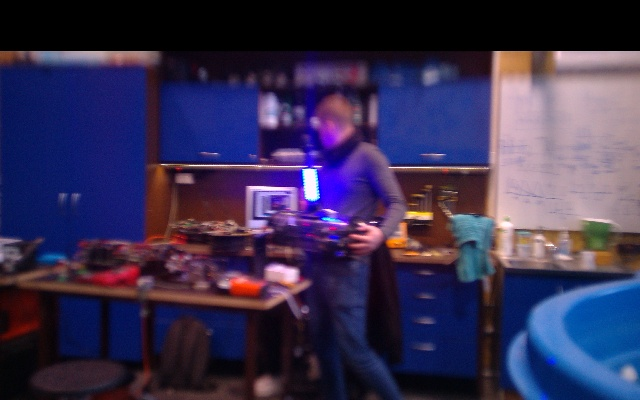blue: (301, 166, 320, 204)
